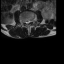CCS_stenosis: (27, 20, 28, 26)
LFS_normal: (30, 18, 32, 23)
LLS_normal: (28, 20, 30, 24)
RFS_stenosis: (23, 19, 25, 24)
RLS_normal: (25, 20, 27, 25)
